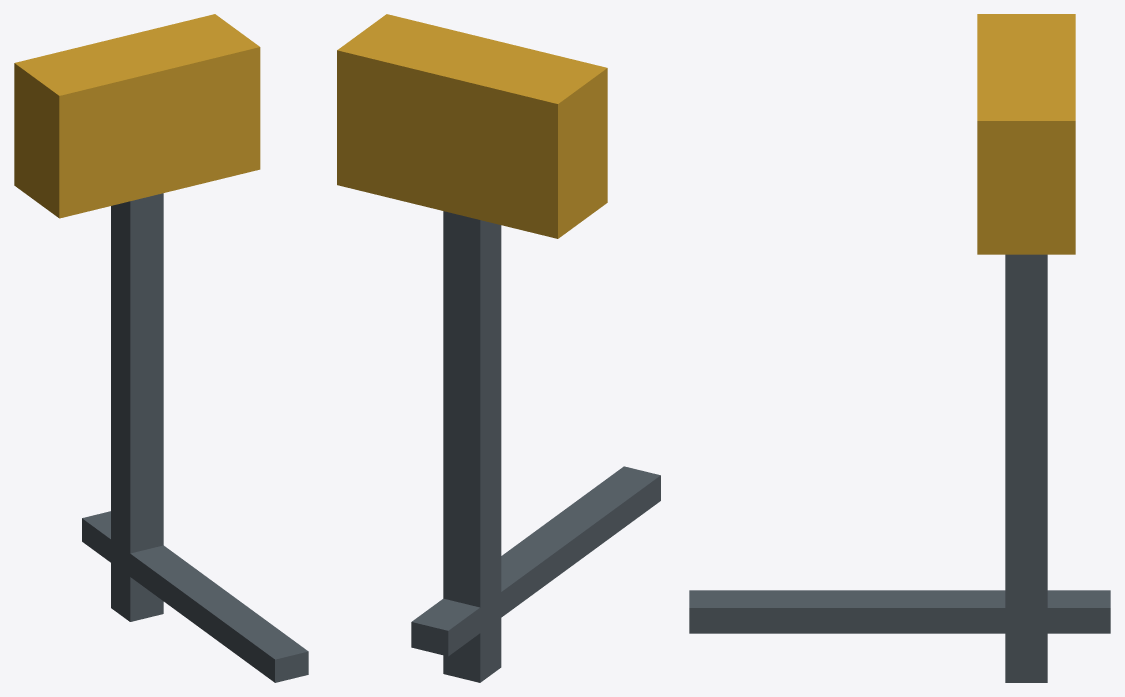
File: prop.tripod_light.glb
3 renders of one model, left to right at view 1: azimuth 30°, elevation 25°; view 2: azimuth 150°, elevation 25°; view 3: azimuth 270°, elevation 25°, orthographic. The views are drawn at different scales.
Parts seen in each view (by area): view 1: light_head, tripod_center, leg_a; view 2: light_head, tripod_center, leg_a; view 3: light_head, tripod_center, leg_a.
Part boxes in pixels (<box>): light_head: <box>14,14,260,218</box>; tripod_center: <box>111,193,163,621</box>; leg_a: <box>82,511,308,682</box>; light_head: <box>337,14,607,238</box>; tripod_center: <box>443,211,501,682</box>; leg_a: <box>411,466,660,656</box>; light_head: <box>977,14,1075,254</box>; tripod_center: <box>1005,254,1047,682</box>; leg_a: <box>689,590,1110,633</box>.
Size of the model in its own units: 0.72 by 1.9 by 1.2.
